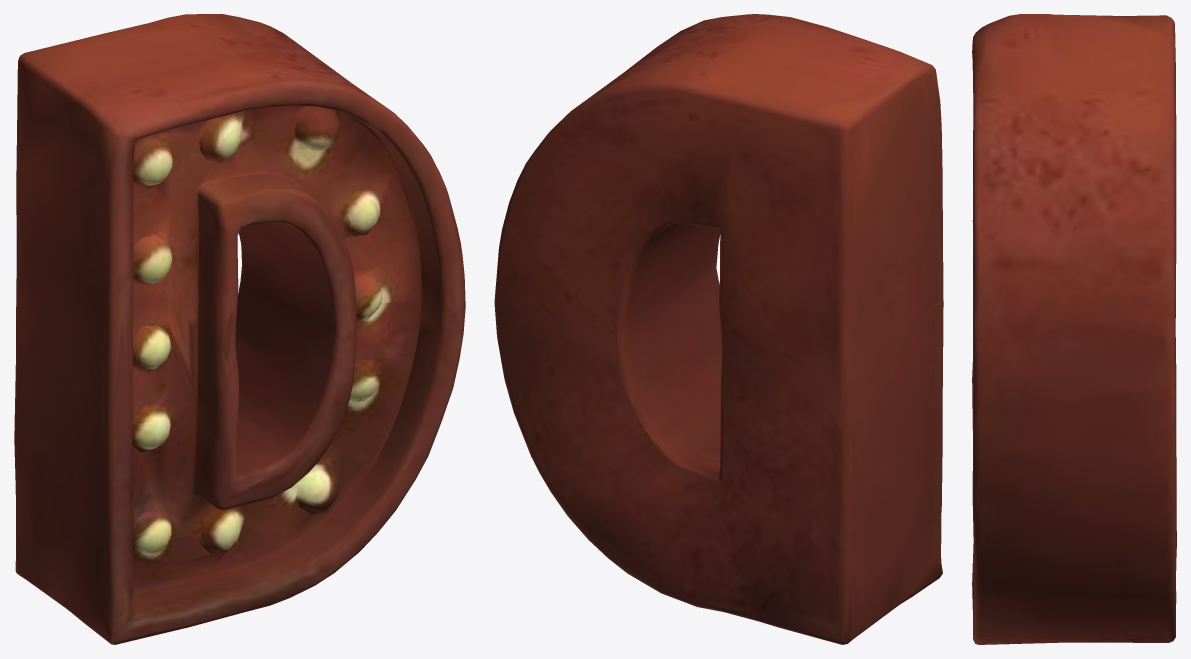
The model's file is letter_d_idle.glb.
The picture shows the model from 3 angles, left to right: view 1: azimuth 30°, elevation 25°; view 2: azimuth 150°, elevation 25°; view 3: azimuth 270°, elevation 25°; orthographic projection. The views are drawn at different scales.
Visible parts, largest first — view 1: letter_d; view 2: letter_d; view 3: letter_d.
Boxes of the visible parts, x1,y1,x2,y2 form: letter_d: (14, 14, 465, 644); letter_d: (494, 14, 943, 644); letter_d: (972, 14, 1176, 644).
Size of the model in its own units: 0.7022 by 0.9862 by 0.3376.
Materials: 1 (1 with a texture image).
